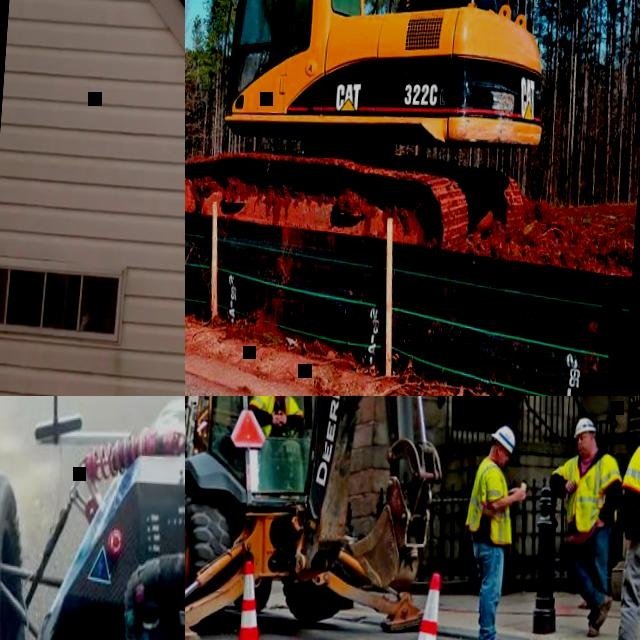Hardhat: (490, 427, 516, 454), (573, 418, 596, 439)
NO-Mask: (578, 442, 594, 456), (495, 452, 506, 467)
Person: (539, 416, 627, 640), (457, 424, 530, 640), (598, 396, 640, 640), (246, 396, 306, 437)
Safety Cone: (383, 572, 456, 640), (224, 562, 282, 640), (185, 555, 199, 640)
Safety Vest: (465, 457, 518, 547), (565, 454, 610, 535), (256, 396, 296, 437)
machinery: (185, 0, 580, 240), (185, 396, 461, 640)
vehicle: (0, 396, 185, 640)
